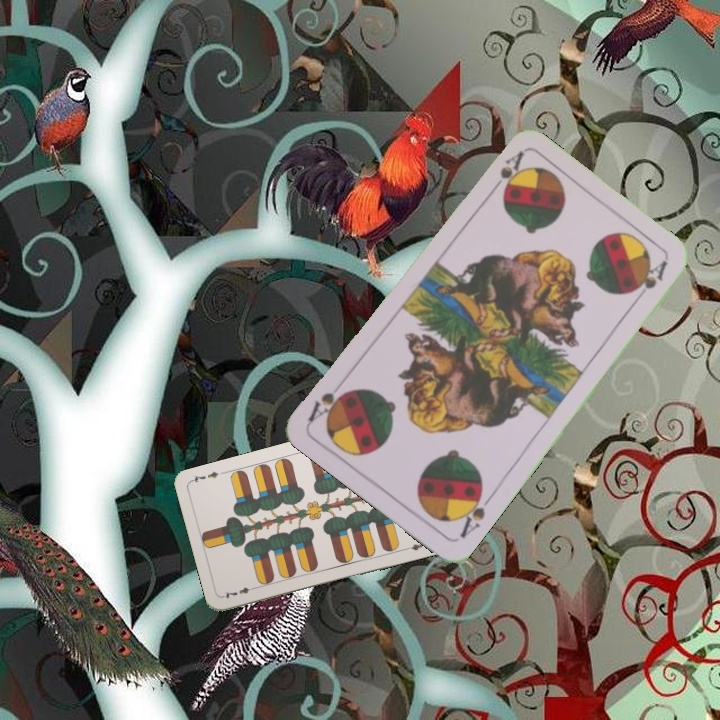E7: (219, 583, 259, 601)
SA: (453, 484, 495, 541), (484, 148, 526, 199)
